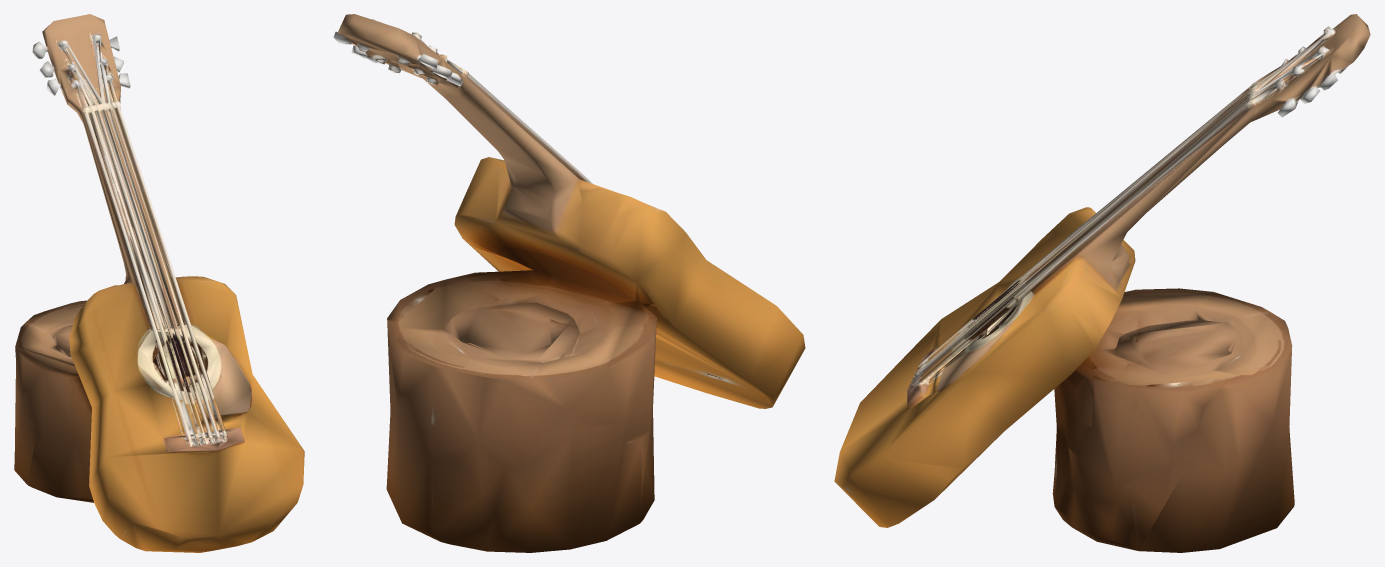
Rendered from guitar.glb.
3 views of the same model, side by side, from view 1: azimuth 30°, elevation 25°; view 2: azimuth 150°, elevation 25°; view 3: azimuth 270°, elevation 25° (orthographic). The views are drawn at different scales.
Parts seen in each view (by area): view 1: node_0; view 2: node_0; view 3: node_0.
Part boxes in pixels (bbox=[...]): node_0: bbox=[14, 14, 304, 552]; node_0: bbox=[333, 14, 805, 552]; node_0: bbox=[834, 14, 1370, 552].
Size of the model in its own units: 0.4393 by 0.8676 by 0.8436.
1 material, 1 textured.
